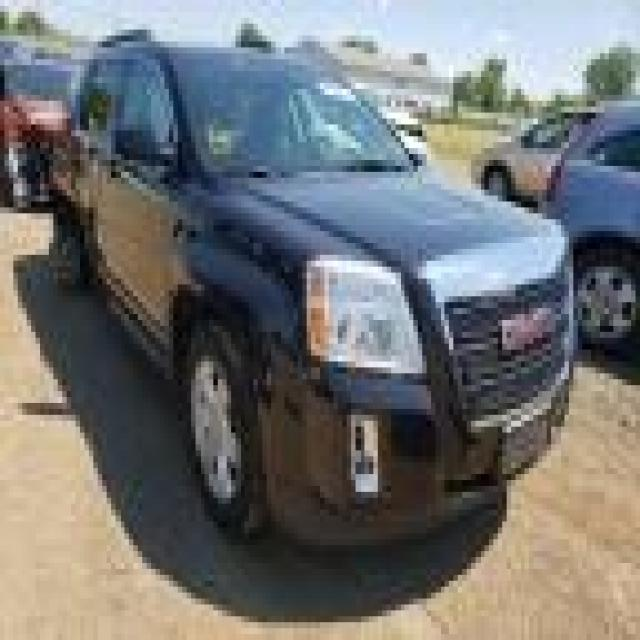minor: (166, 215, 213, 251)
